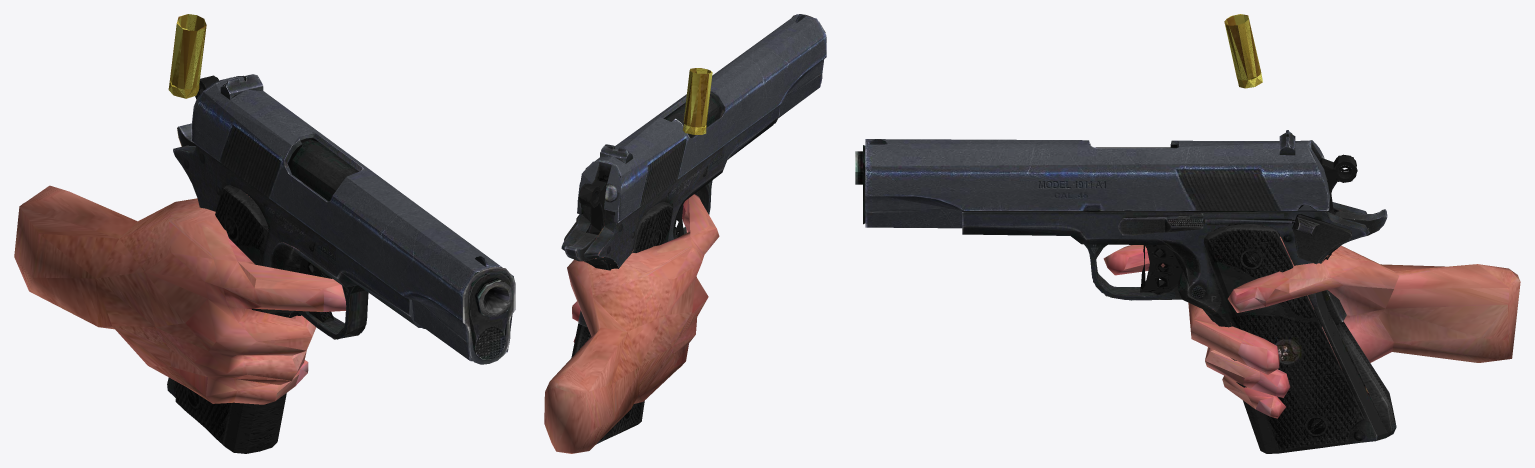
The model's file is Gun_000009.obj.
3 views of the same model, side by side, from view 1: azimuth 30°, elevation 25°; view 2: azimuth 150°, elevation 25°; view 3: azimuth 270°, elevation 25° (orthographic). The views are drawn at different scales.
Visible parts, largest first — view 1: ZBrushPolyMesh3D, Slide, Mesh_0008, BulletShell; view 2: ZBrushPolyMesh3D, Slide, Mesh_0008, BulletShell, Hammer; view 3: Mesh_0008, Slide, ZBrushPolyMesh3D, BulletShell, Trigger, Hammer.
Boxes of the visible parts, box(x1,y1,x2,y2) form: ZBrushPolyMesh3D: box(14, 185, 346, 404); Slide: box(191, 74, 515, 364); Mesh_0008: box(167, 123, 513, 453); BulletShell: box(168, 14, 206, 98); ZBrushPolyMesh3D: box(544, 194, 719, 453); Slide: box(577, 14, 826, 223); Mesh_0008: box(561, 92, 779, 444); BulletShell: box(683, 68, 712, 134); Hammer: box(578, 179, 606, 241); Mesh_0008: box(855, 147, 1396, 453); Slide: box(863, 130, 1330, 228); ZBrushPolyMesh3D: box(1103, 236, 1520, 418); BulletShell: box(1224, 14, 1262, 88); Trigger: box(1140, 239, 1181, 292); Hammer: box(1319, 154, 1357, 214).
Size of the model in its own units: 0.8857 by 2.26 by 3.46.
